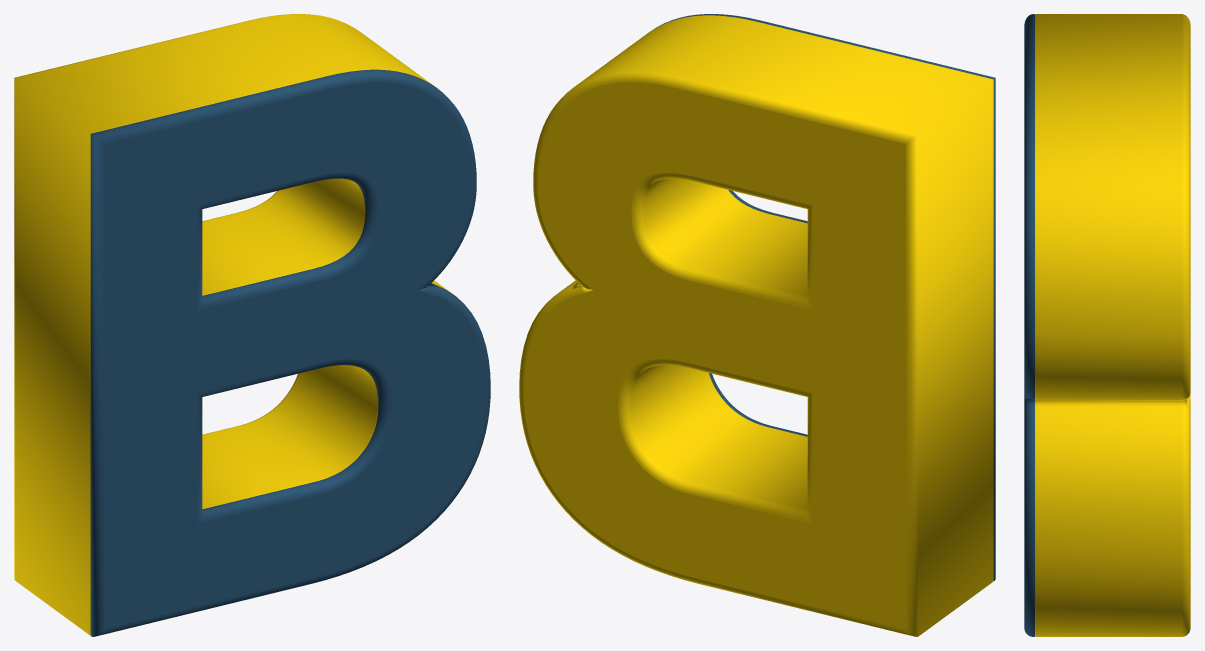
The model's file is letter.glb.
3 views of the same model, side by side, from view 1: azimuth 30°, elevation 25°; view 2: azimuth 150°, elevation 25°; view 3: azimuth 270°, elevation 25° (orthographic). The views are drawn at different scales.
Parts seen in each view (by area): view 1: Text; view 2: Text; view 3: Text.
Part boxes in pixels (x1,y1,x2,y2): Text: (14,14,490,636); Text: (519,14,995,636); Text: (1024,14,1190,636).
Size of the model in its own units: 0.4952 by 0.5969 by 0.1836.
